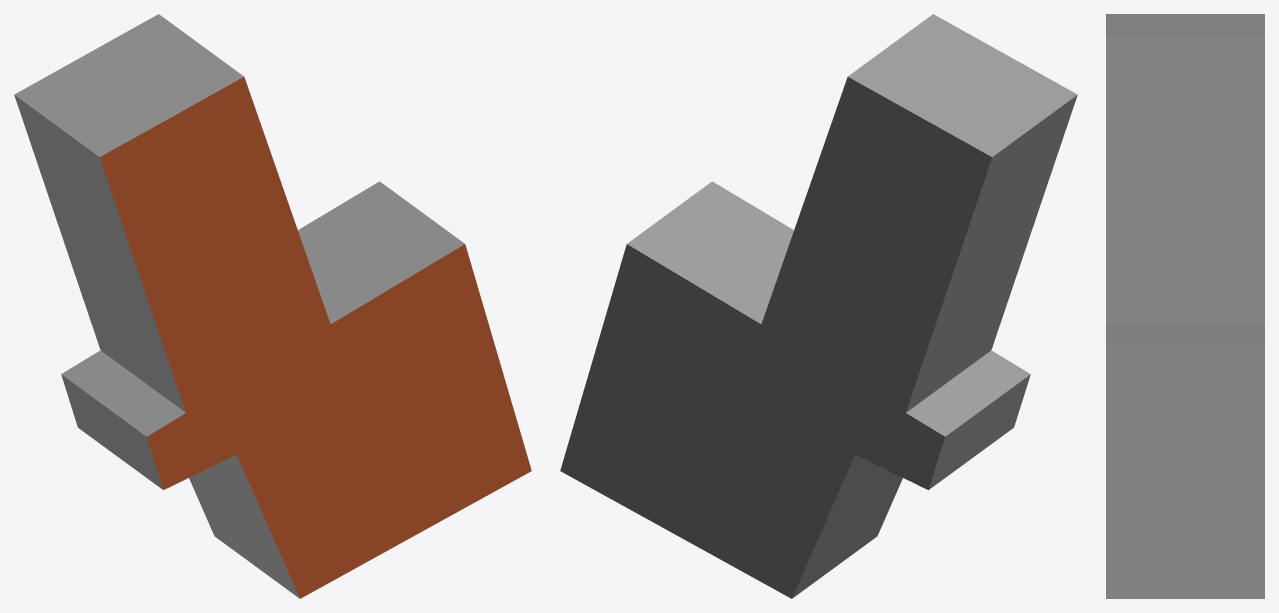
File: construction_3014_assumed_A_Casa_h6m.obj
3 renders of one model, left to right at view 1: azimuth 30°, elevation 25°; view 2: azimuth 150°, elevation 25°; view 3: azimuth 270°, elevation 25°, orthographic. The views are drawn at different scales.
Parts seen in each view (by area): view 1: construction_3014_assumed_A_Casa; view 2: construction_3014_assumed_A_Casa; view 3: construction_3014_assumed_A_Casa.
Part boxes in pixels (x1,y1,x2,y2): construction_3014_assumed_A_Casa: (14, 14, 531, 598); construction_3014_assumed_A_Casa: (560, 14, 1077, 598); construction_3014_assumed_A_Casa: (1106, 14, 1264, 598).
Bounding box in the file's own units: 17.49 × 20.73 × 6.
